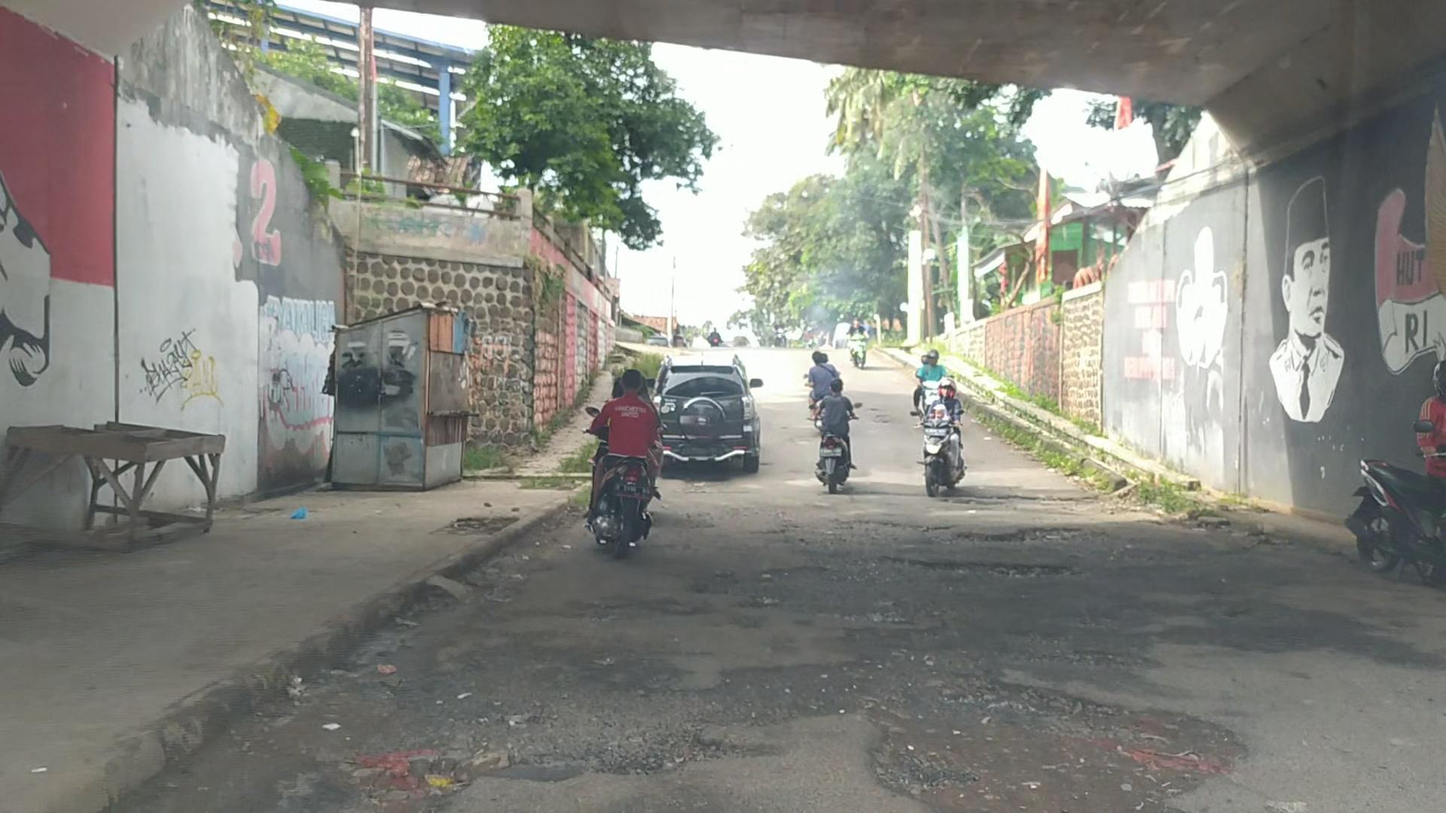pothole: (350, 642, 1249, 813), (732, 553, 1071, 591), (806, 519, 1086, 549), (952, 489, 1117, 516)
